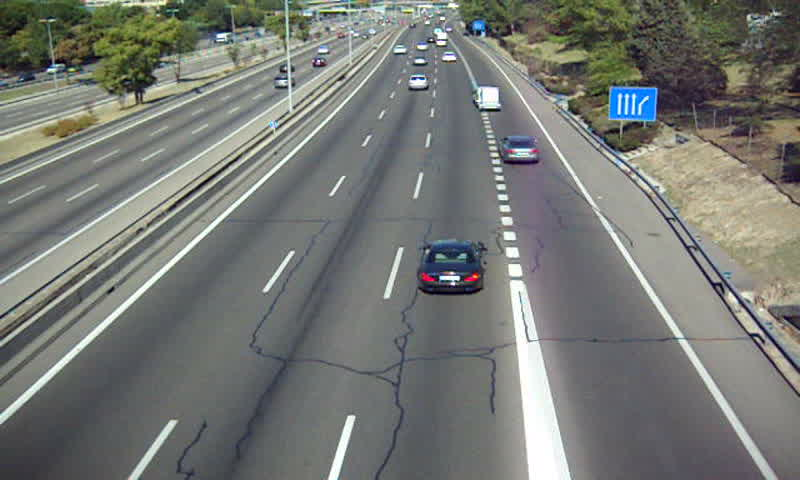car: (418, 241, 484, 293), (500, 135, 542, 163), (408, 75, 429, 90), (441, 51, 459, 64), (412, 55, 430, 67)
van: (471, 86, 500, 109)
